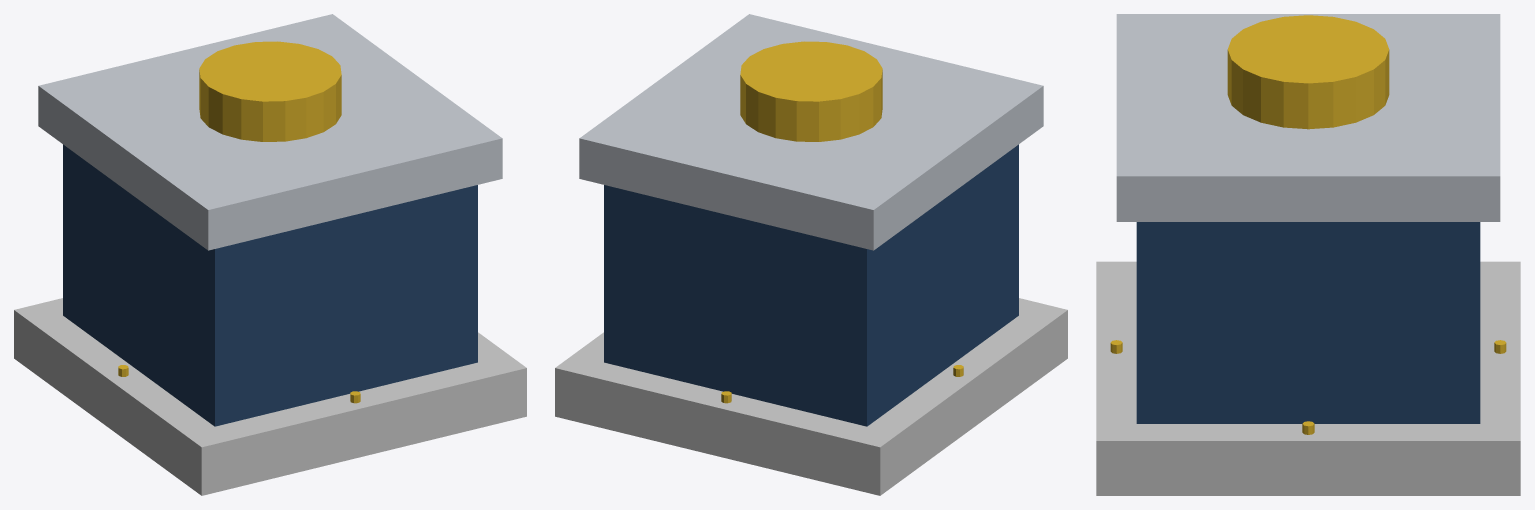
Rendered from missile_showcase.obj.
3 renders of one model, left to right at view 1: azimuth 30°, elevation 25°; view 2: azimuth 150°, elevation 25°; view 3: azimuth 270°, elevation 25°, orthographic. The views are drawn at different scales.
Parts seen in each view (by area): view 1: missile_showcase; view 2: missile_showcase; view 3: missile_showcase.
Part boxes in pixels (bbox=[...]): missile_showcase: bbox=[14, 14, 526, 495]; missile_showcase: bbox=[555, 14, 1067, 495]; missile_showcase: bbox=[1096, 14, 1520, 495].
Bounding box in the file's own units: 0.84 × 0.78 × 0.84.
